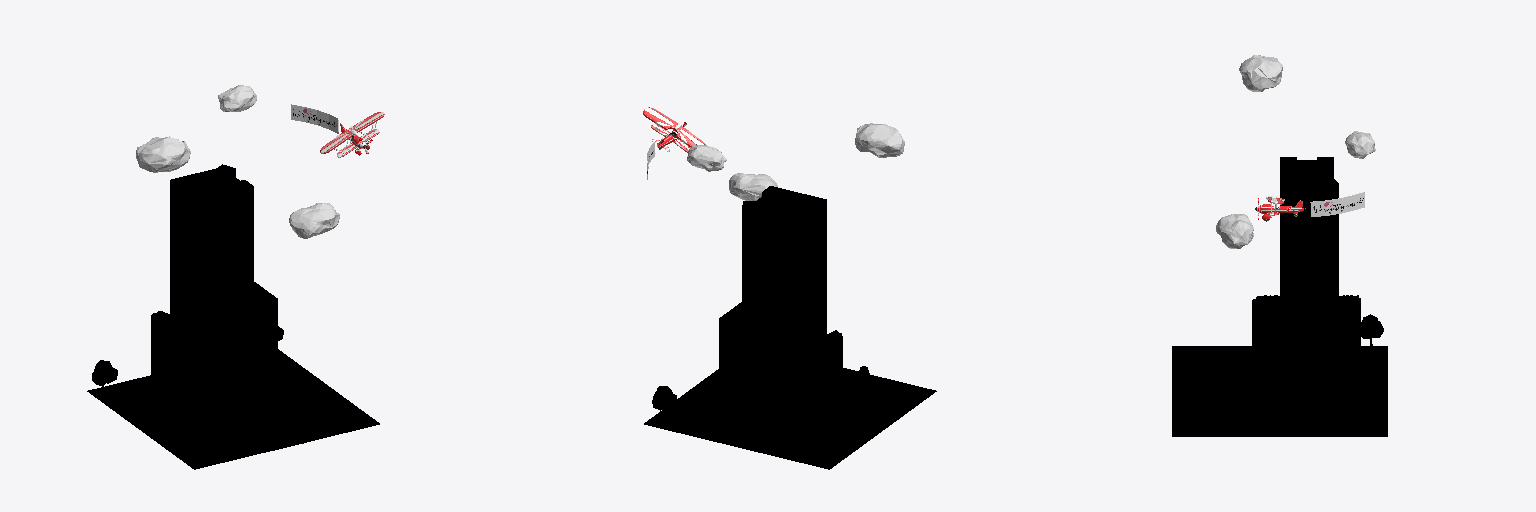
The picture shows the model from 3 angles: view 1: azimuth 30°, elevation 25°; view 2: azimuth 150°, elevation 25°; view 3: azimuth 270°, elevation 25°; orthographic projection.
Parts seen in each view (by area): view 1: model HotelIcon polySurface190 polySurface188, model HotelIcon Block_01_pCube2, Ground model, model Road, Cloud polySurface16, model Hadge pCylinder2, polySurface15 Cloud, plane plane polySurface162, model Hadge Green_hedge30, model Hedge_in_bloomn1 Hadge, model HotelIcon hotel_ground, Cloud polySurface17 (+1 smaller); view 2: model HotelIcon polySurface190 polySurface188, model HotelIcon Block_01_pCube2, Ground model, model Road, Cloud polySurface16, plane plane polySurface162, model Hadge pCylinder2, model Hadge Green_hedge30, polySurface15 Cloud, model Hadge Green_hedge_04, model Hedge_in_bloomn1 Hadge, Cloud polySurface17; view 3: model HotelIcon Block_01_pCube2, model HotelIcon polySurface190 polySurface188, Ground model, model Road, model Hadge pCylinder2, Cloud polySurface16, polySurface15 Cloud, model Hadge Green_hedge_04, model Hedge_in_bloomn1 Hadge, model Hadge Green_hedge30, plane plane pCube1 flag, model HotelIcon hotel_ground (+2 smaller).
Part boxes in pixels (x1,y1,x2,y2): model HotelIcon polySurface190 polySurface188: (170,168,295,417); model HotelIcon Block_01_pCube2: (149,164,295,426); Ground model: (87,349,379,469); model Road: (131,375,318,450); Cloud polySurface16: (136,136,190,172); model Hadge pCylinder2: (123,362,325,443); polySurface15 Cloud: (289,203,339,238); plane plane polySurface162: (320,112,384,157); model Hadge Green_hedge30: (92,360,297,432); model Hedge_in_bloomn1 Hadge: (144,384,313,452); model HotelIcon hotel_ground: (213,405,291,432); Cloud polySurface17: (218,85,256,111); model HotelIcon polySurface190 polySurface188: (719,192,817,431); model HotelIcon Block_01_pCube2: (742,186,847,446); Ground model: (644,369,936,469); model Road: (687,368,874,453); Cloud polySurface16: (855,123,904,157); plane plane polySurface162: (643,107,706,152); model Hadge pCylinder2: (680,378,881,456); model Hadge Green_hedge30: (708,400,853,450); polySurface15 Cloud: (729,173,777,200); model Hadge Green_hedge_04: (652,386,848,441); model Hedge_in_bloomn1 Hadge: (699,366,869,447); Cloud polySurface17: (687,145,726,171); model HotelIcon Block_01_pCube2: (1244,157,1360,412); model HotelIcon polySurface190 polySurface188: (1273,182,1338,353); Ground model: (1172,346,1387,436); model Road: (1172,359,1377,427); model Hadge pCylinder2: (1213,351,1377,433); Cloud polySurface16: (1239,55,1282,91); polySurface15 Cloud: (1216,214,1253,248); model Hadge Green_hedge_04: (1265,372,1383,419); model Hedge_in_bloomn1 Hadge: (1173,365,1360,424); model Hadge Green_hedge30: (1235,314,1383,418); plane plane pCube1 flag: (1311,192,1364,216); model HotelIcon hotel_ground: (1234,371,1361,411).
Size of the model in its own units: 37.25 by 42.06 by 27.63.
Materials: 19 (3 with a texture image).